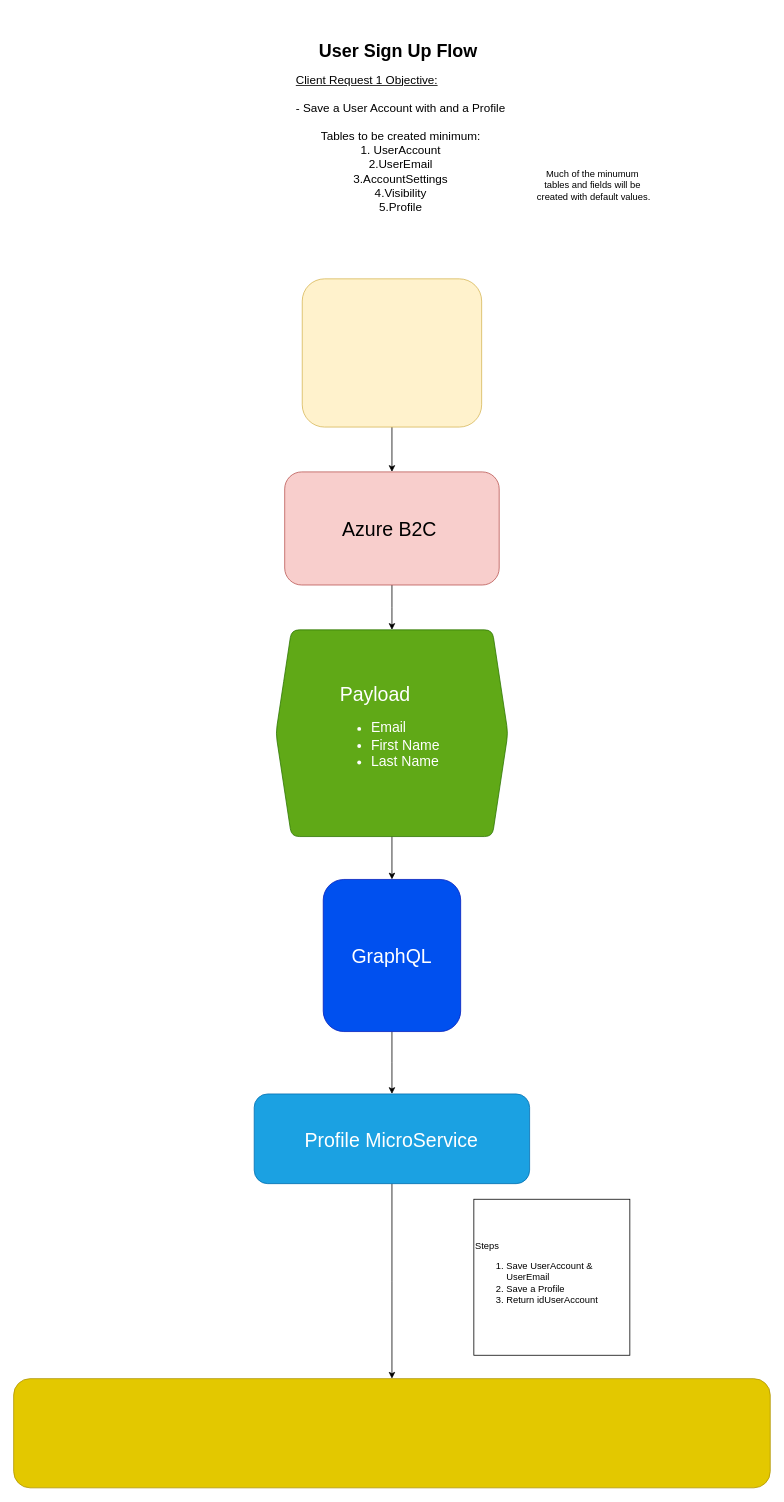
This 784x1502 diagram has some shape labels left out. The shapes that lost their labels are listed below. From the top down, each one's box as (x1, y1, x2, y2) in pixels, then its label:
(301, 278, 482, 427): Landing Page
(13, 1378, 770, 1488): SQL Server
